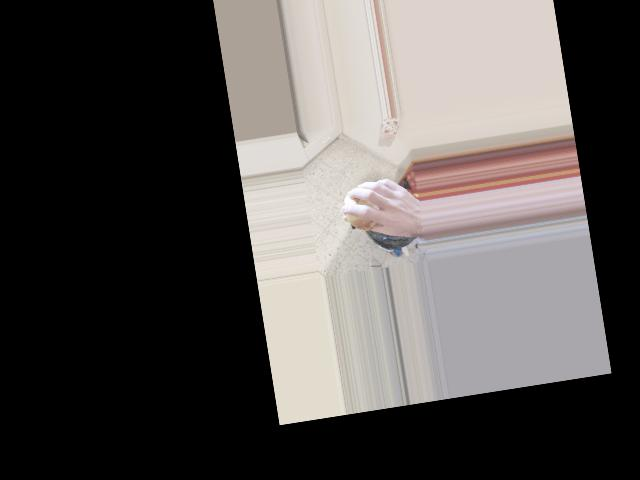onion: (341, 186, 385, 232)
